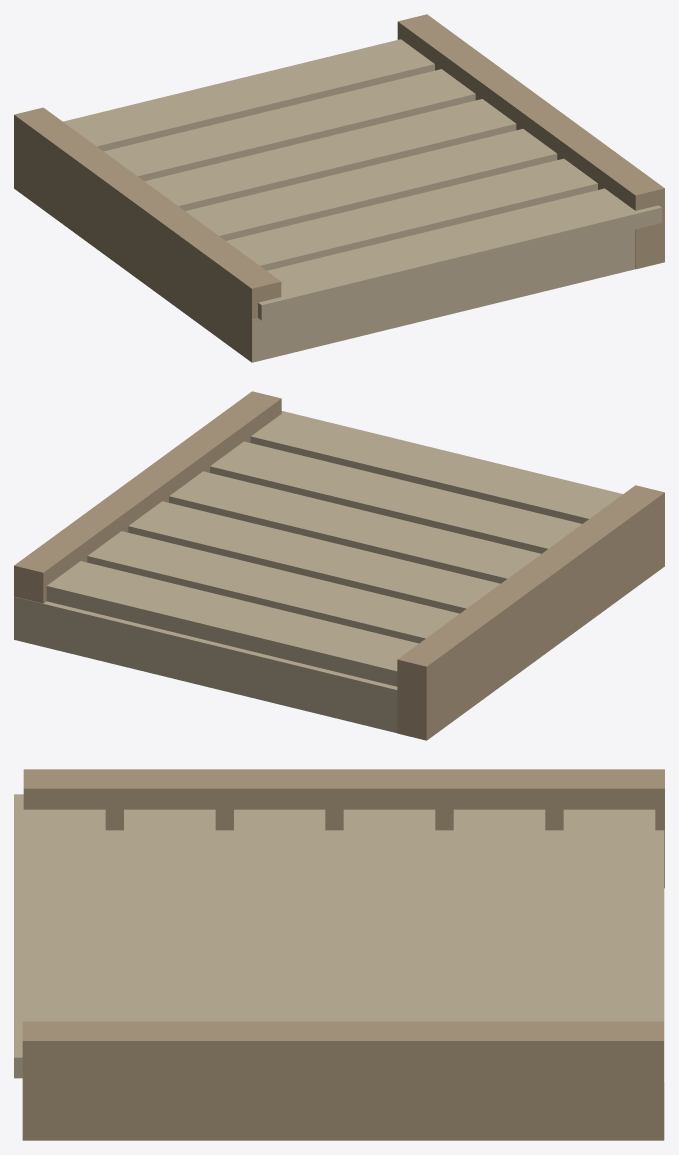
File: trench-line-1917-trench-bridge-5c2e51af__24057.glb
3 renders of one model, top to bottom at view 1: azimuth 30°, elevation 25°; view 2: azimuth 150°, elevation 25°; view 3: azimuth 270°, elevation 25°, orthographic. The views are drawn at different scales.
Visible parts, largest first — view 1: trench-bridge; view 2: trench-bridge; view 3: trench-bridge.
Boxes of the visible parts, left/top/right/bottom form: trench-bridge: left=14, top=14, right=664, bottom=362; trench-bridge: left=14, top=391, right=664, bottom=740; trench-bridge: left=14, top=769, right=664, bottom=1140.
Bounding box in the file's own units: 1.4 × 0.24 × 1.42.
